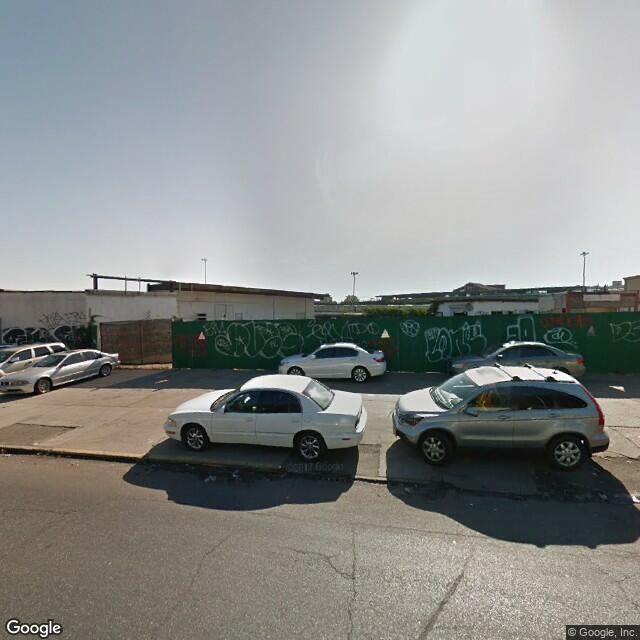litter: (193, 465, 266, 492), (4, 448, 25, 462)
